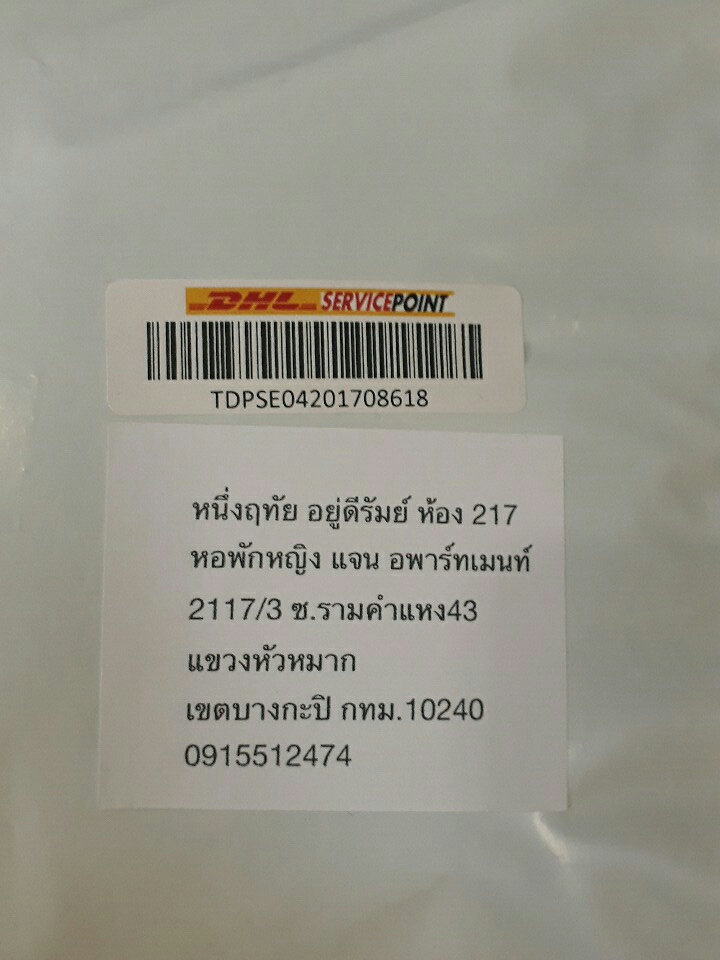txt: (175, 479, 539, 785)
